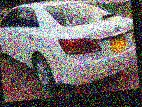car: (0, 0, 138, 95)
